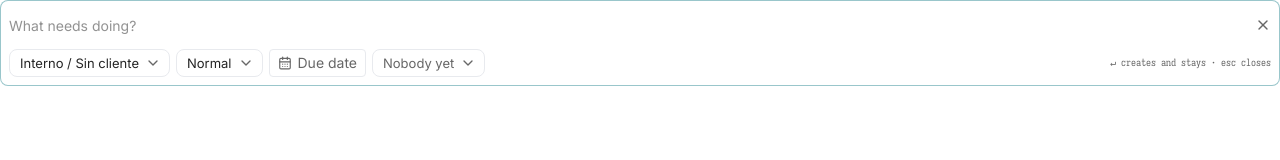
Test case: el composer › la pregunta cuando la lista sí tiene canal
Click the dropdown named "Where it goes". click: (90, 63)
box: [9,49,170,77]
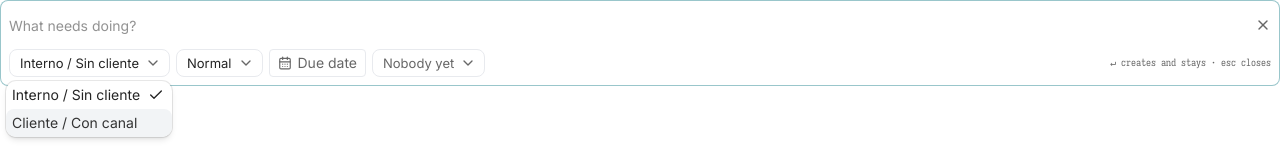
Click the option "Cliente / Con canal". click: (89, 123)
box: [6,109,172,137]
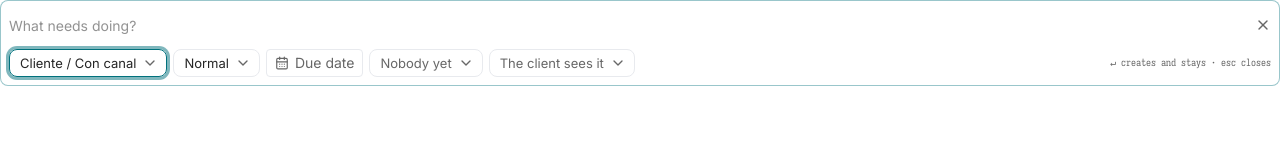
Now the dropdown named "Visibility" is shown, box [489,49,635,77]
